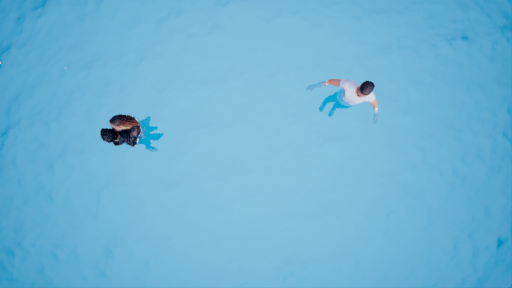person: (303, 71, 384, 129), (92, 110, 163, 154)
